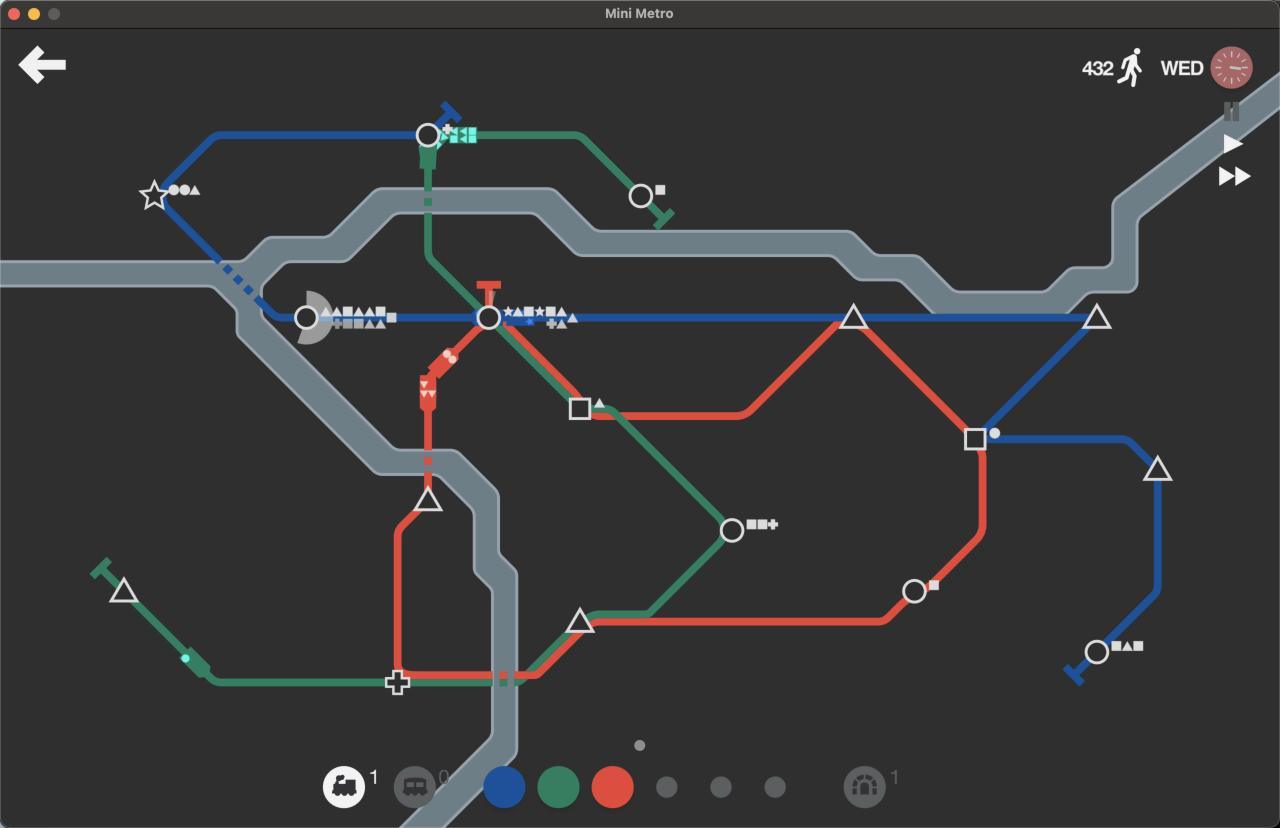CIRCLE: (628, 182, 654, 209), (719, 517, 745, 544), (293, 304, 319, 331), (901, 578, 927, 605), (474, 305, 502, 330), (415, 122, 441, 148), (1084, 638, 1110, 664)
CROSS: (383, 669, 411, 696)
SQUARE: (569, 397, 592, 421), (964, 427, 987, 451)
STAR: (139, 180, 169, 210)
TRIANGLE: (566, 606, 597, 634), (413, 485, 444, 513), (1142, 454, 1173, 482), (109, 576, 139, 604), (1084, 302, 1113, 328), (840, 303, 868, 329)
